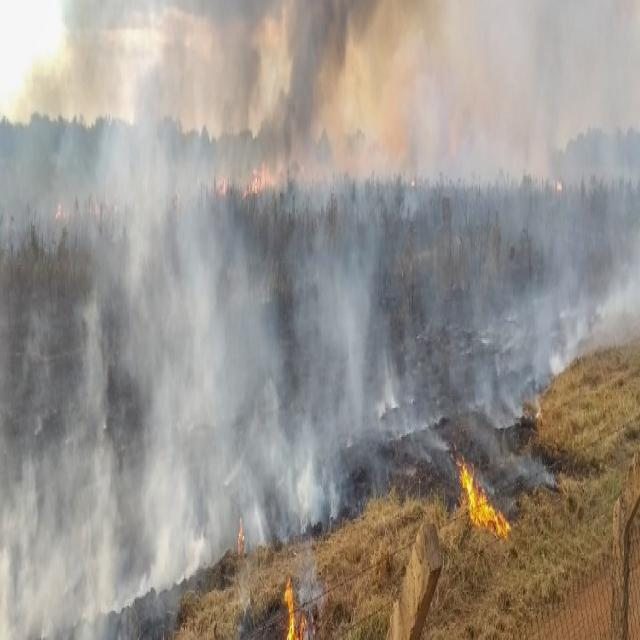Fire: (456, 456, 506, 540), (280, 576, 307, 636), (244, 158, 274, 200)
Smoke: (288, 2, 347, 184), (17, 34, 126, 117), (131, 36, 196, 136), (341, 253, 372, 440), (218, 6, 261, 132), (91, 438, 119, 612), (78, 294, 109, 437), (122, 520, 172, 604), (525, 67, 557, 193), (251, 80, 293, 160), (594, 264, 640, 316), (512, 440, 556, 490), (296, 456, 325, 525), (472, 374, 506, 429), (566, 300, 590, 373), (178, 523, 205, 586), (378, 354, 398, 418), (0, 527, 11, 640), (250, 492, 268, 552), (499, 373, 523, 418), (423, 414, 447, 454), (328, 478, 340, 520), (548, 343, 564, 373)
